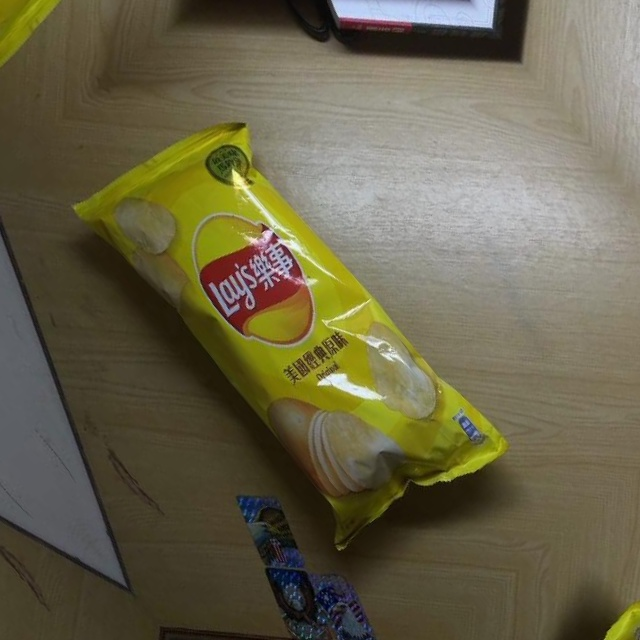Lay-s-original: (57, 85, 516, 576)
